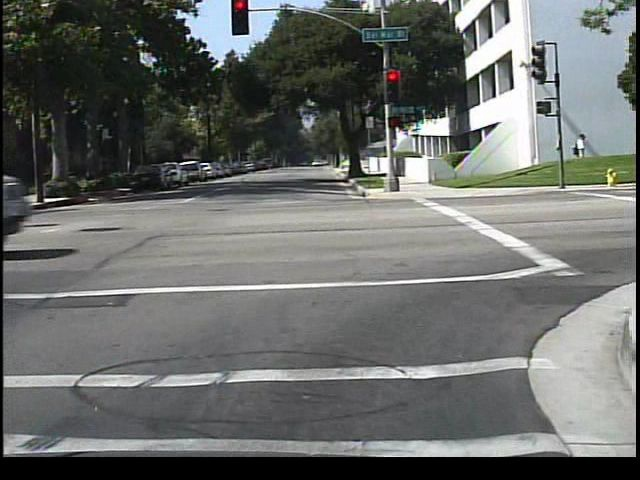person: (568, 126, 592, 180)
